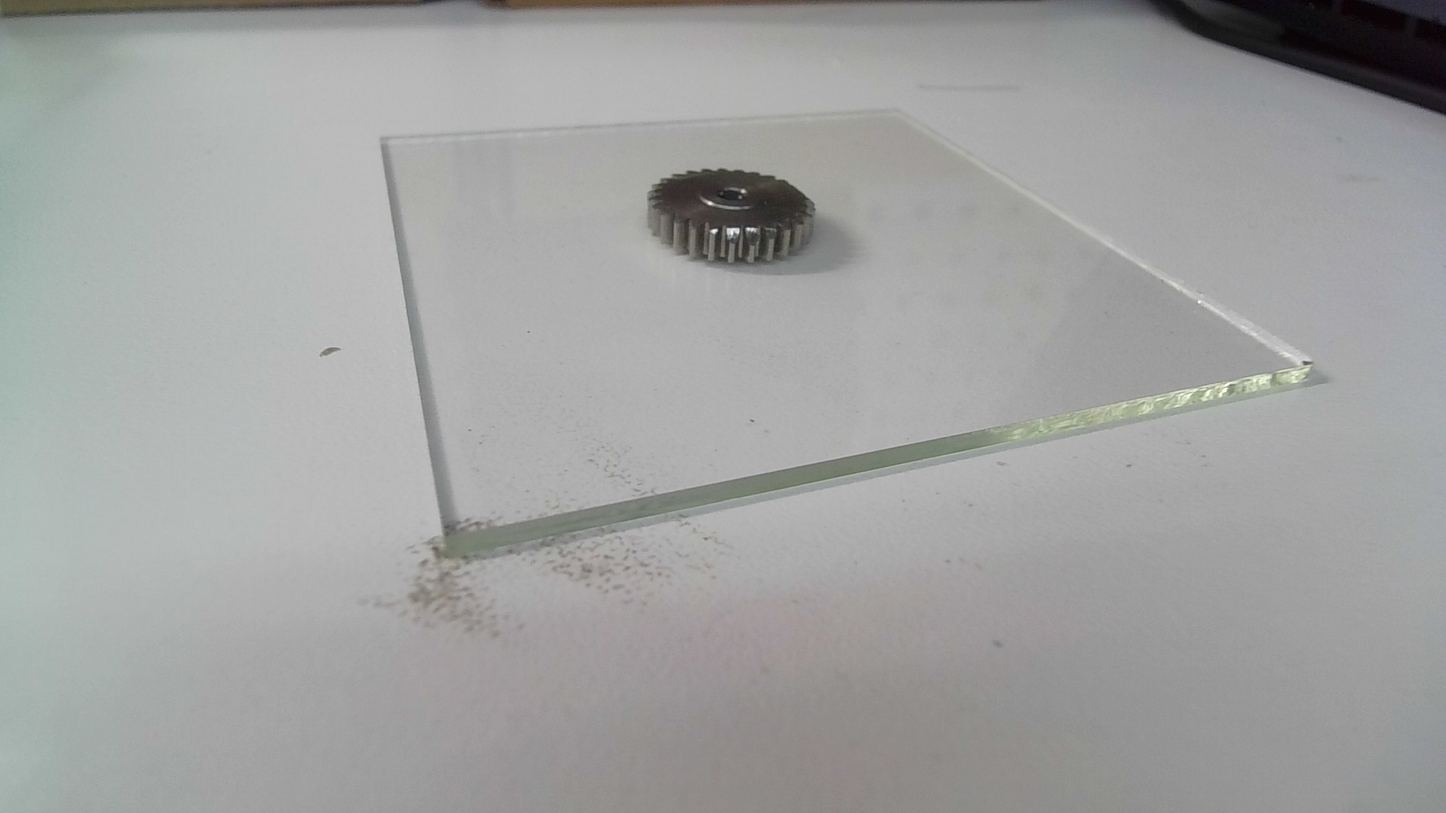gear: (643, 165, 821, 269)
